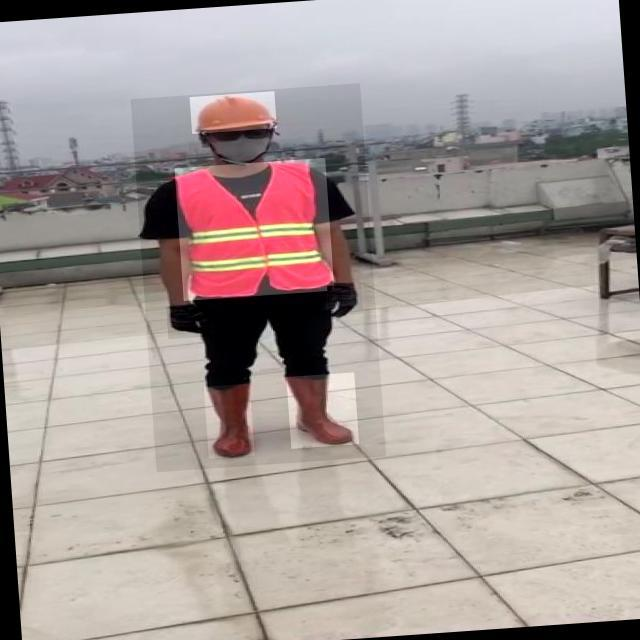Gloves: (166, 303, 211, 339), (327, 284, 363, 316)
Helmet: (190, 91, 277, 134)
Human: (131, 83, 386, 472)
Safety Boot: (287, 372, 360, 449), (204, 383, 255, 458)
Safety Vest: (174, 158, 334, 301)
